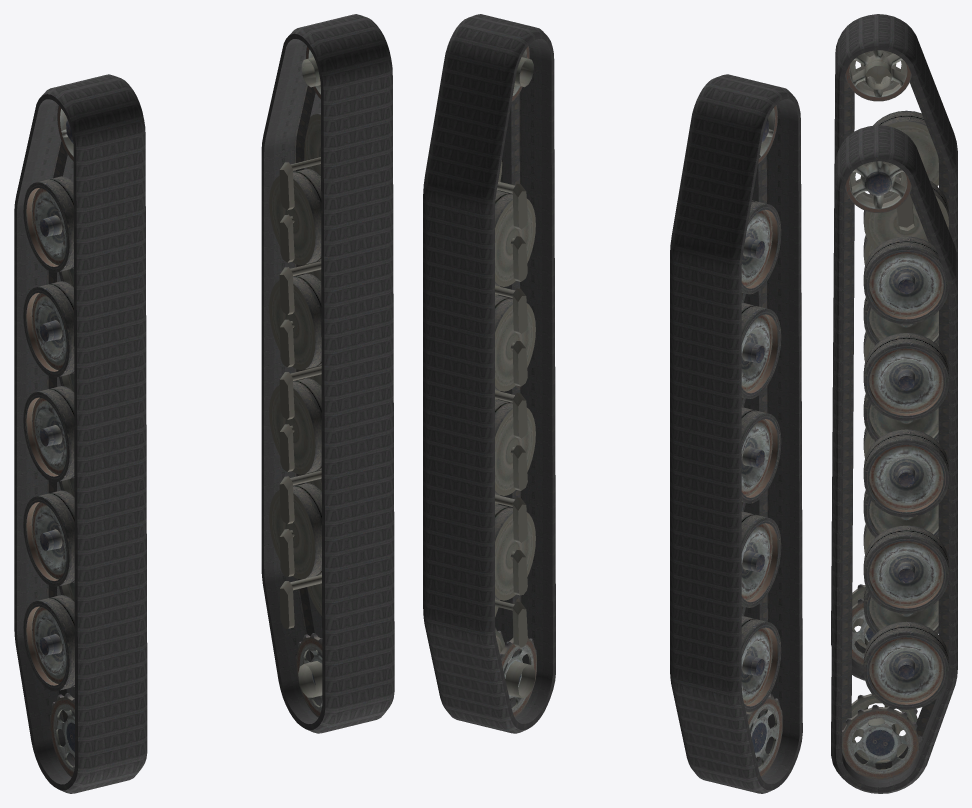
The model's file is Chassis.glb.
3 views of the same model, side by side, from view 1: azimuth 30°, elevation 25°; view 2: azimuth 150°, elevation 25°; view 3: azimuth 270°, elevation 25° (orthographic). The views are drawn at different scales.
Parts seen in each view (by area): view 1: set_1_group_0, set_0_group_0, set_3_group_0, set_2_group_0; view 2: set_0_group_0, set_1_group_0, set_2_group_0, set_3_group_0; view 3: set_2_group_0, set_1_group_0, set_0_group_0, set_3_group_0.
Boxes of the visible parts, x1=… form: set_1_group_0: x1=261, y1=14, x2=394, y2=733; set_0_group_0: x1=14, y1=74, x2=147, y2=793; set_3_group_0: x1=23, y1=105, x2=74, y2=776; set_2_group_0: x1=269, y1=46, x2=322, y2=717; set_0_group_0: x1=670, y1=74, x2=802, y2=793; set_1_group_0: x1=423, y1=14, x2=555, y2=733; set_2_group_0: x1=495, y1=46, x2=536, y2=717; set_3_group_0: x1=741, y1=105, x2=782, y2=776; set_2_group_0: x1=842, y1=161, x2=948, y2=779; set_1_group_0: x1=831, y1=125, x2=957, y2=793; set_0_group_0: x1=831, y1=14, x2=957, y2=680; set_3_group_0: x1=845, y1=50, x2=948, y2=665.
Bounding box in the file's own units: 3.39 × 7.15 × 1.28.
4 materials, 4 textured.
